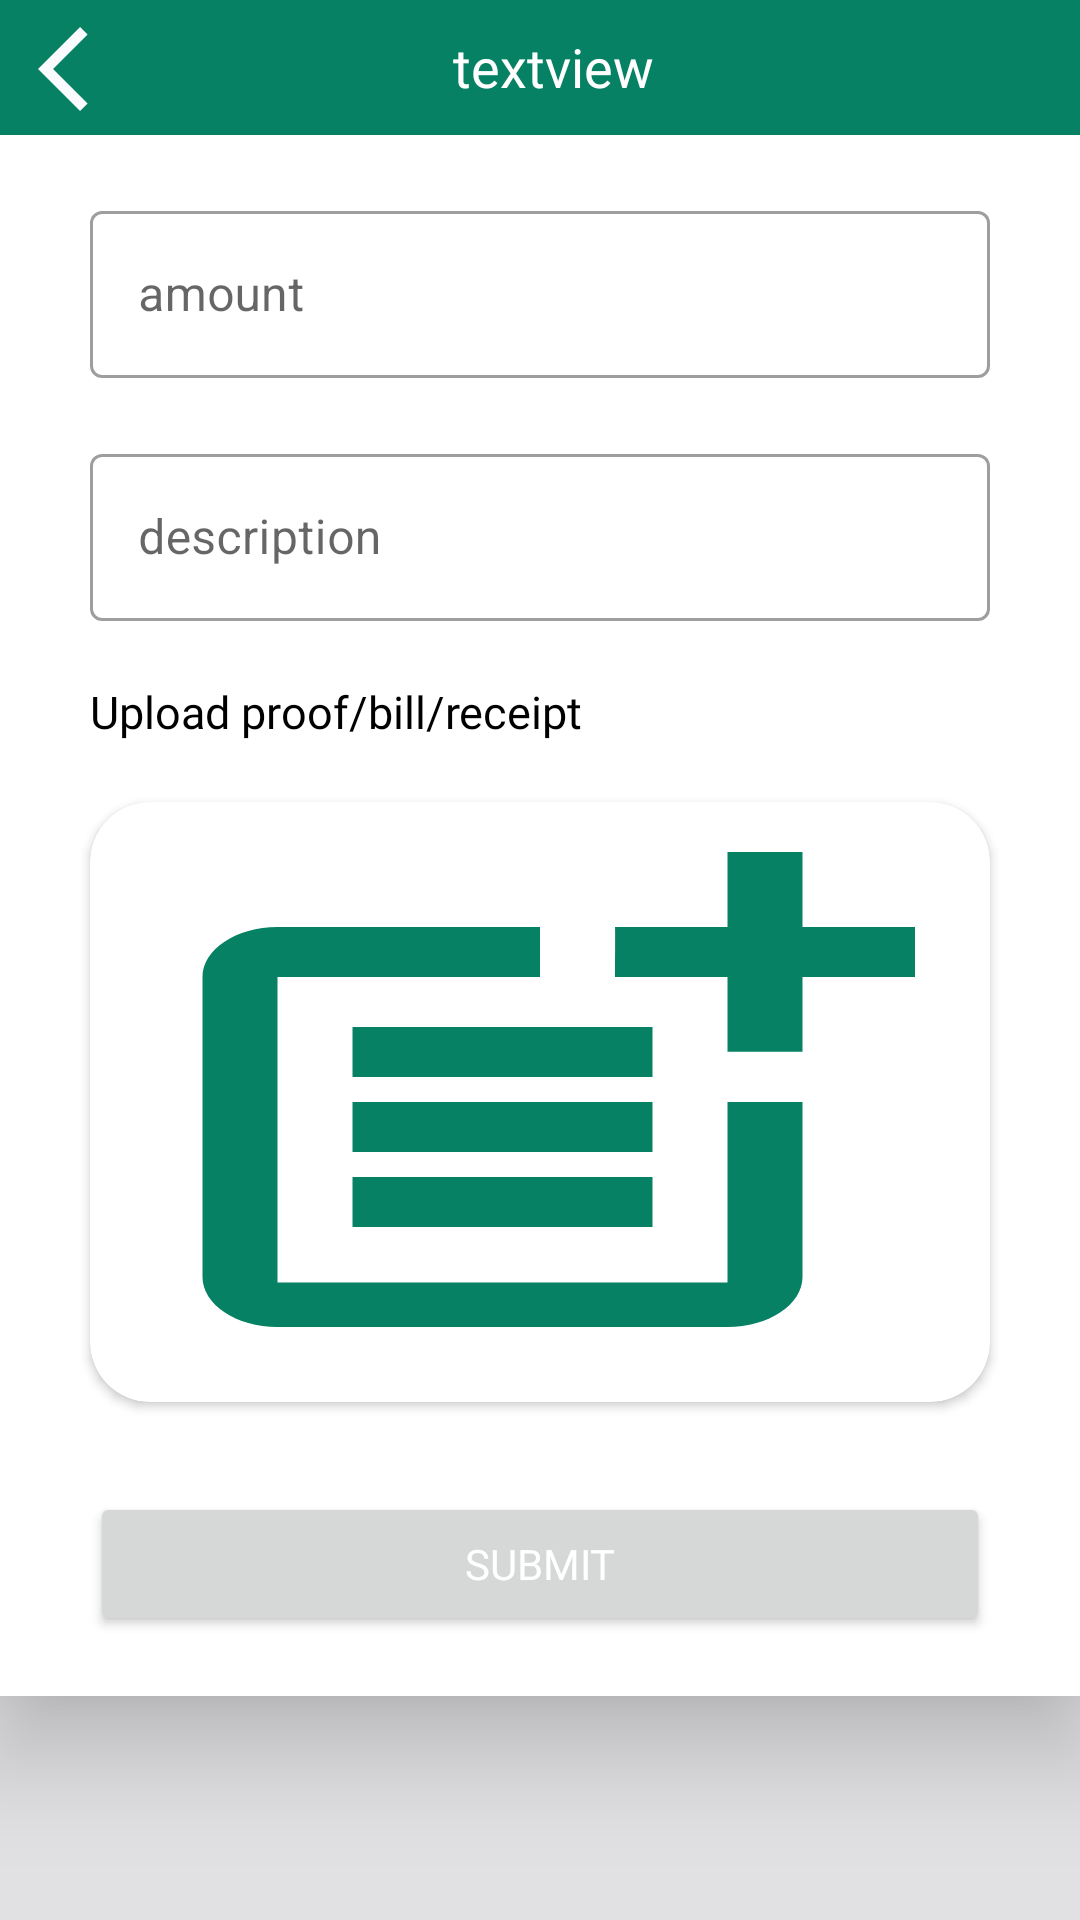

Locate icon controls on the screen. Image size 1080*1920, boxes as (x1, y1, x2, y2).
back: (38, 27, 88, 111)
